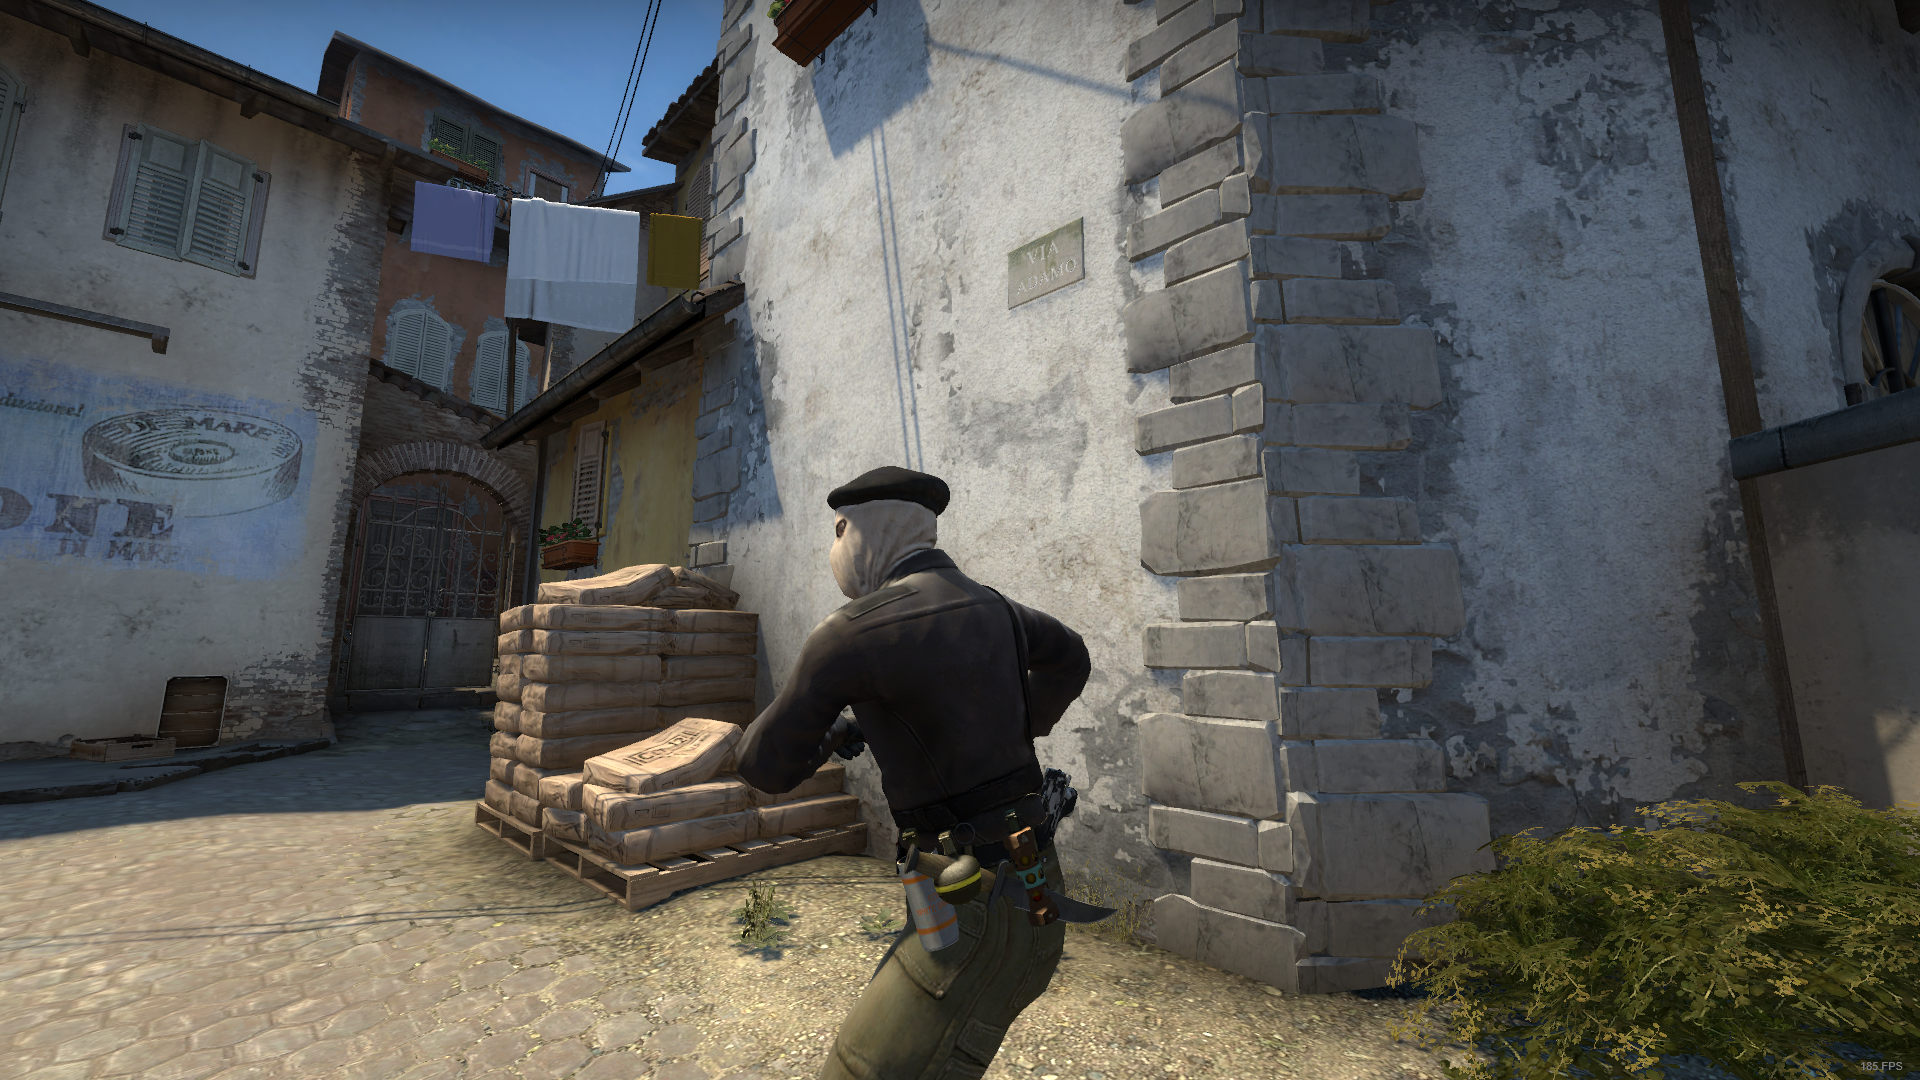t: (741, 465, 1092, 1080)
